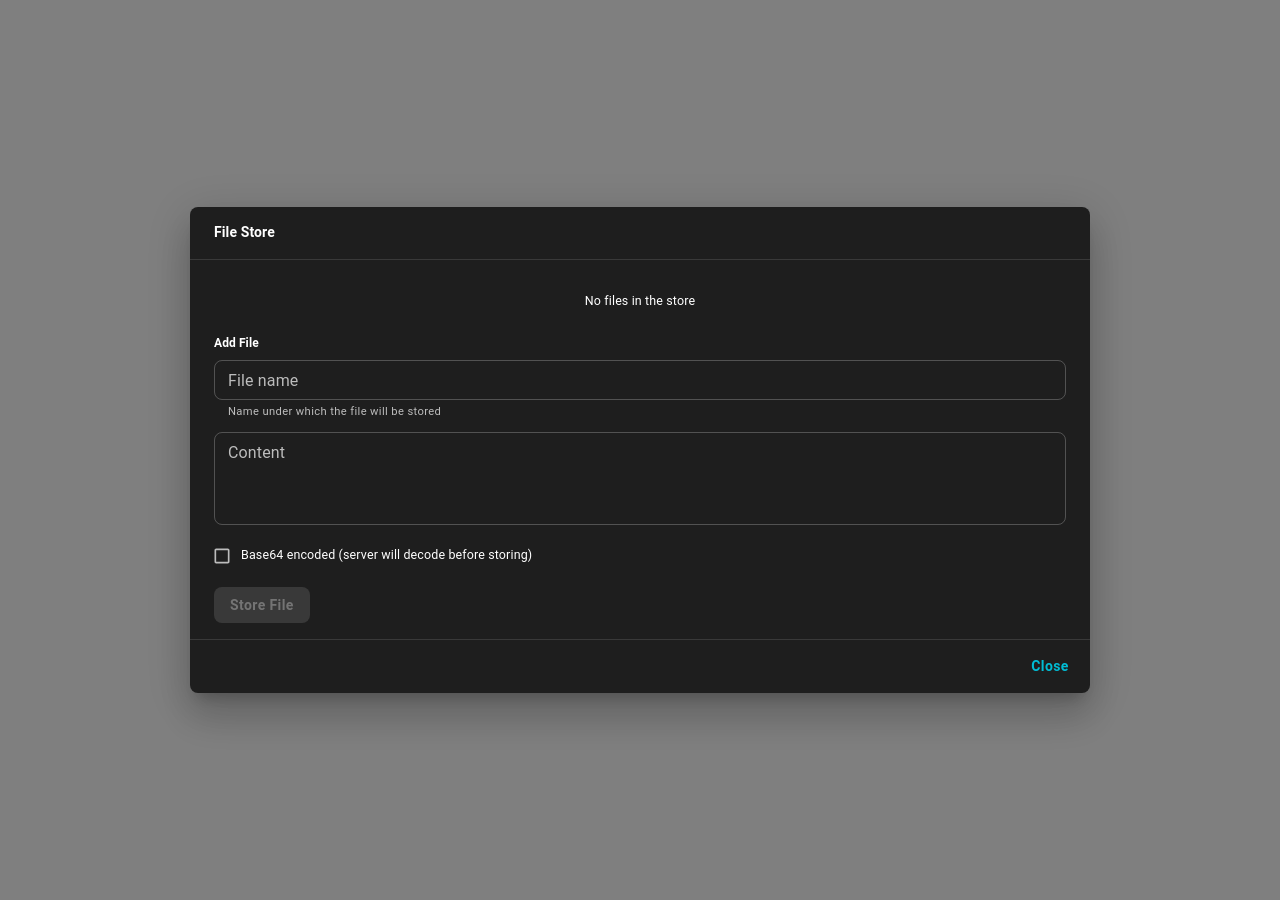
Scenario: FileStoreDialog › stores a file via PUT /files/store and refreshes
In the field labelled "File name": [640, 380] box [214,360,1066,400], type "note.txt"
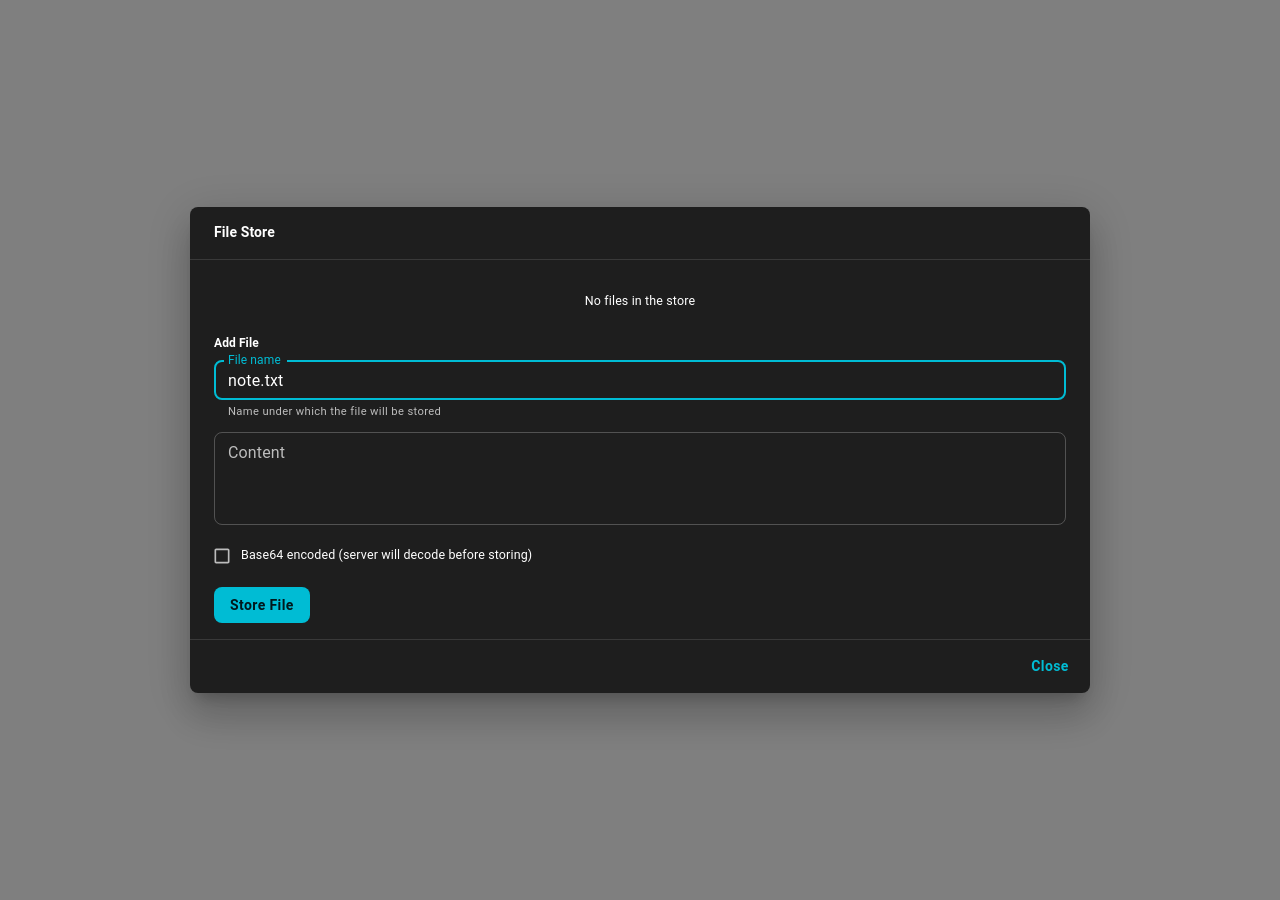
In the text box labelled "Content": [640, 478] box [228,440,1052,516], type "hi"
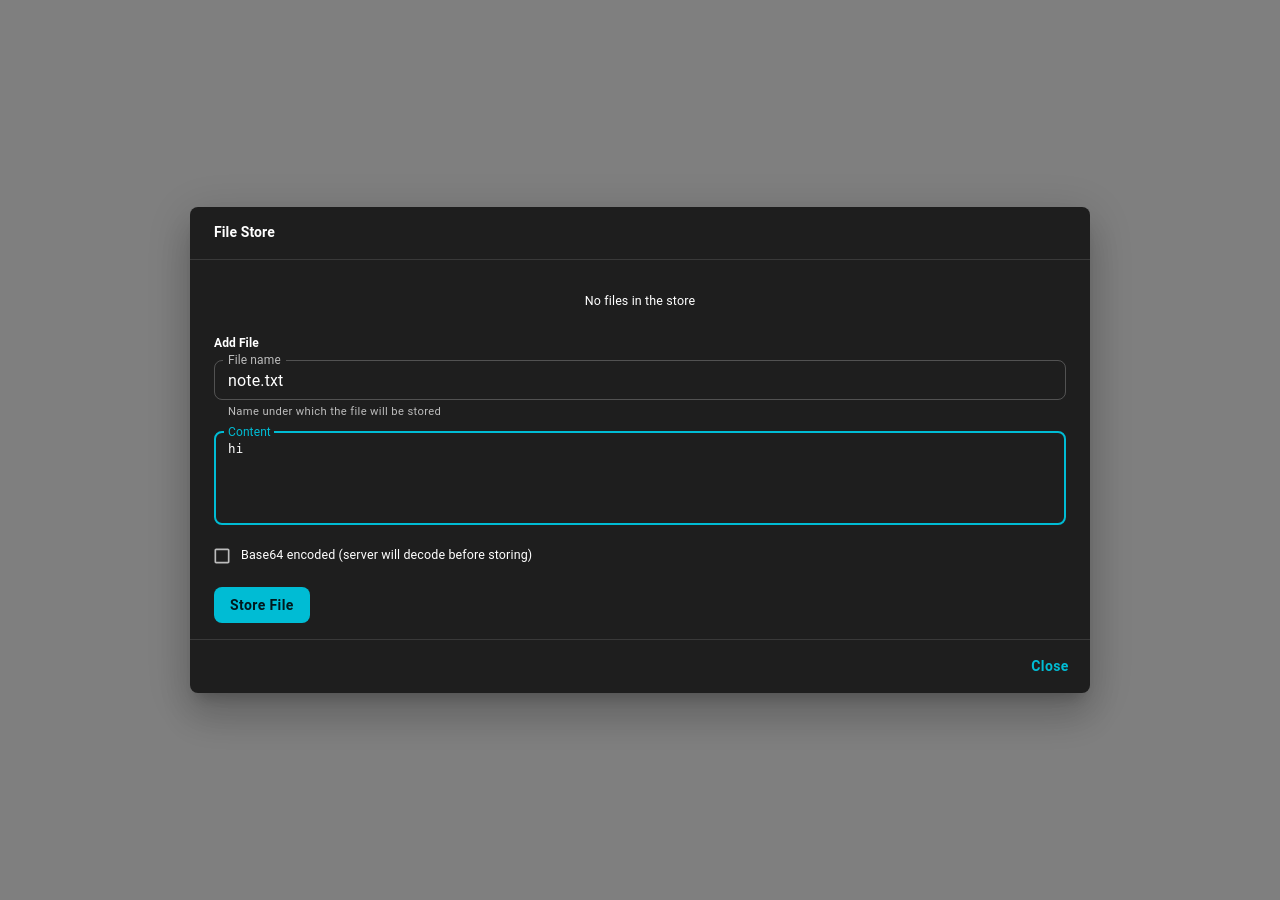
Click the button "Store File": [262, 605] box [214,587,310,623]
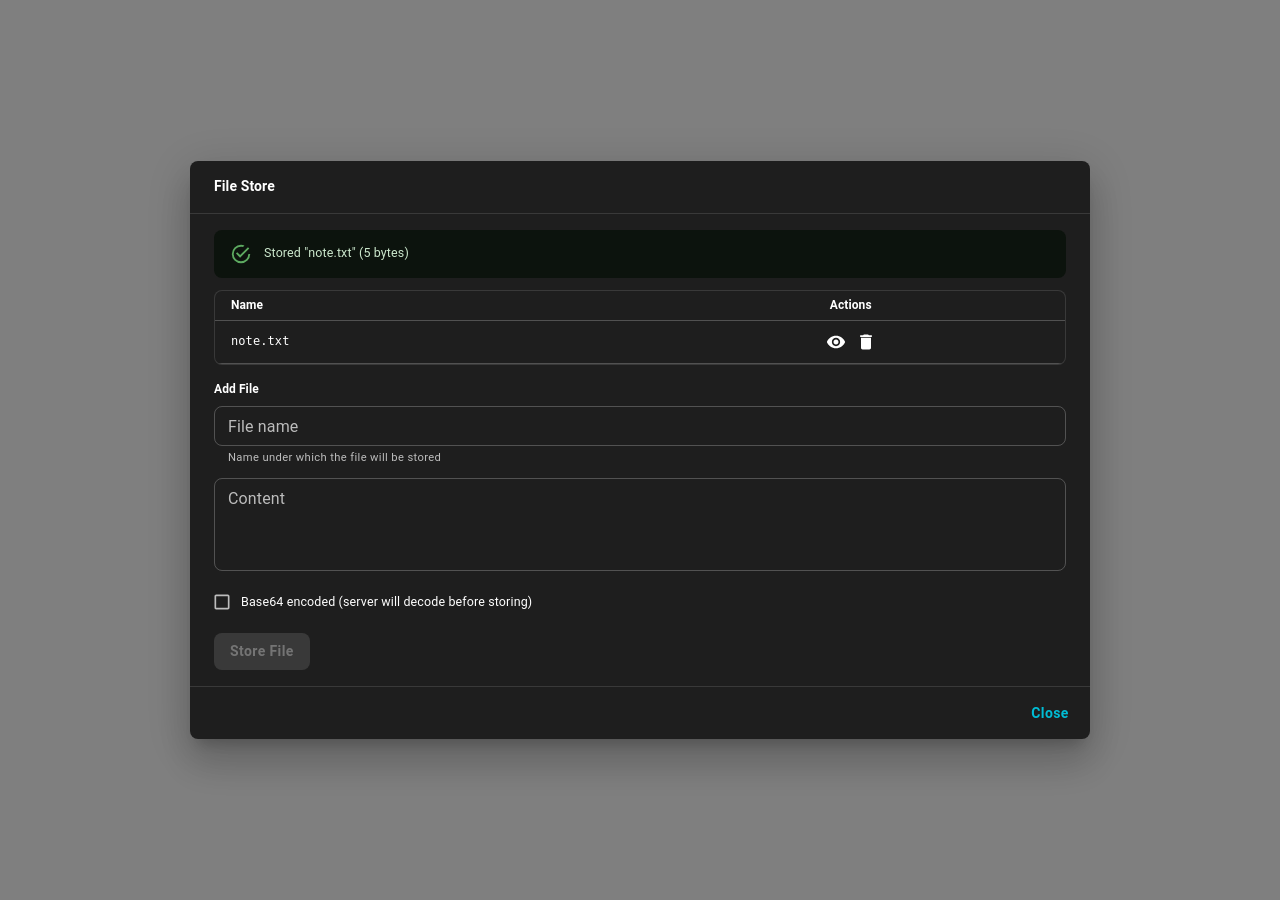
Result: the text "Stored \"note.txt\" (5 bytes)" is shown at [264,245,409,260]
Result: the text "note.txt" is shown at [215,320,636,364]
